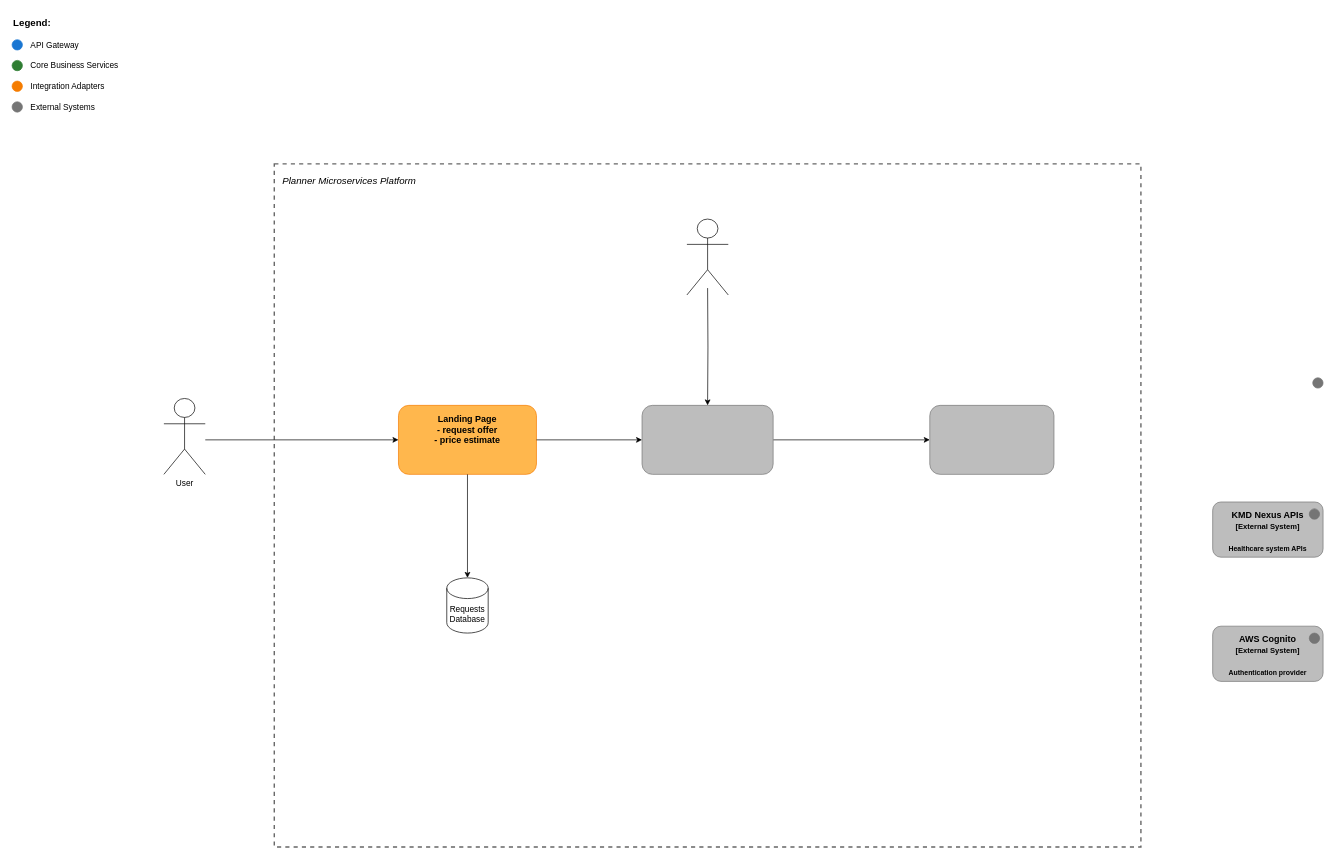
The diagram is 1335 pixels wide and 859 high, and some of its shapes have lost their labels. The shapes that lost their labels are listed below. From the top down, each one's box as (x1, y1, x2, y2) in pixels, then its label:
(686, 218, 728, 295): Back-office operator
(641, 405, 773, 474): Back office - Offer handling - separate page for backoffice operators
(929, 405, 1054, 474): End supplier
